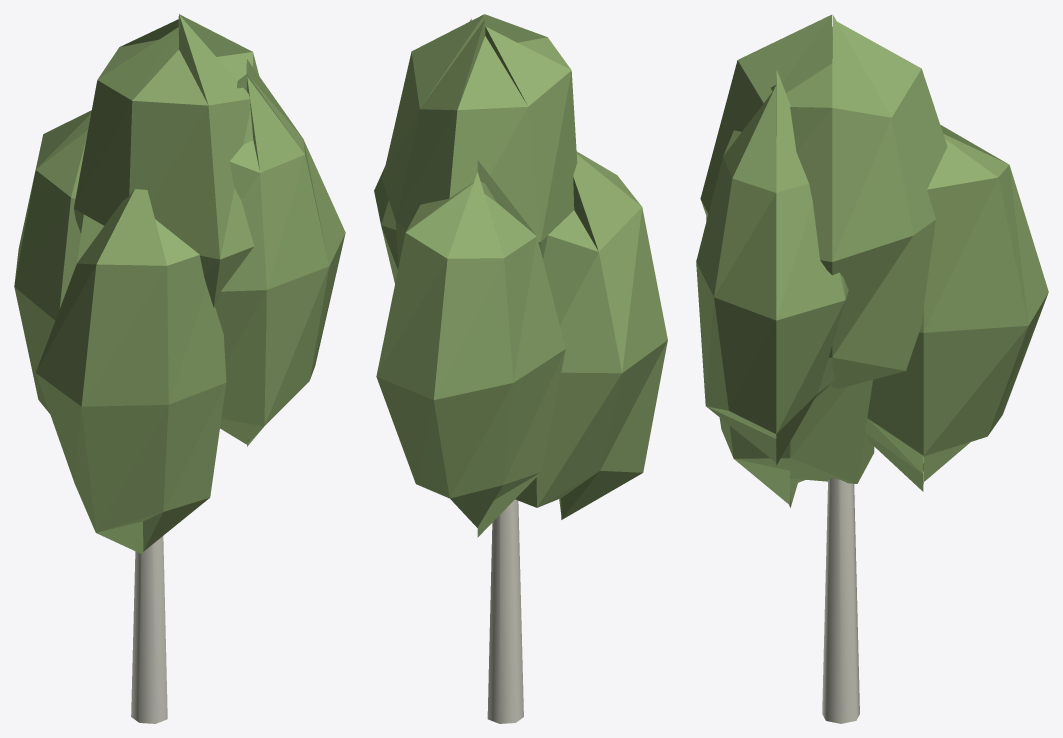
File: birch_tree_variant_02_lod1.glb
3 views of the same model, side by side, from view 1: azimuth 30°, elevation 25°; view 2: azimuth 150°, elevation 25°; view 3: azimuth 270°, elevation 25° (orthographic). The views are drawn at different scales.
Parts seen in each view (by area): view 1: static_leaf_light, trunk; view 2: static_leaf_light, trunk; view 3: static_leaf_light, trunk.
Boxes of the visible parts, <box> form: static_leaf_light: <box>14,14,345,554</box>; trunk: <box>131,536,167,723</box>; static_leaf_light: <box>374,14,667,537</box>; trunk: <box>487,499,523,723</box>; static_leaf_light: <box>696,14,1048,507</box>; trunk: <box>822,478,859,723</box>.
Size of the model in its own units: 3.41 by 8.12 by 3.63.
